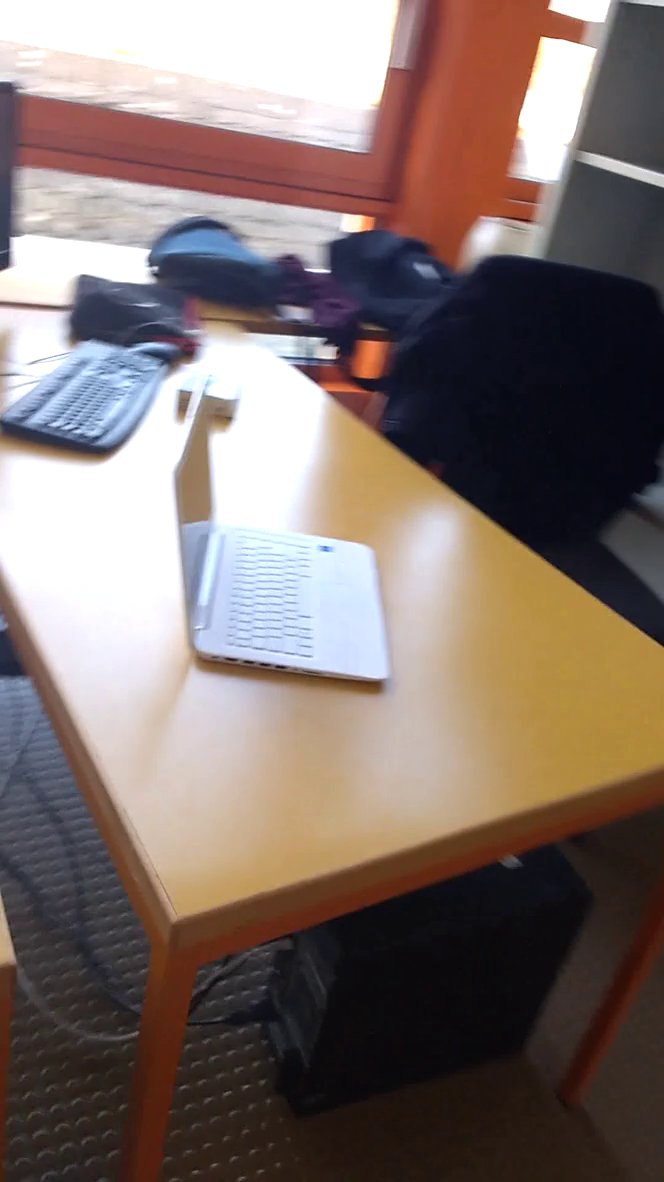laptop: (157, 368, 415, 701)
